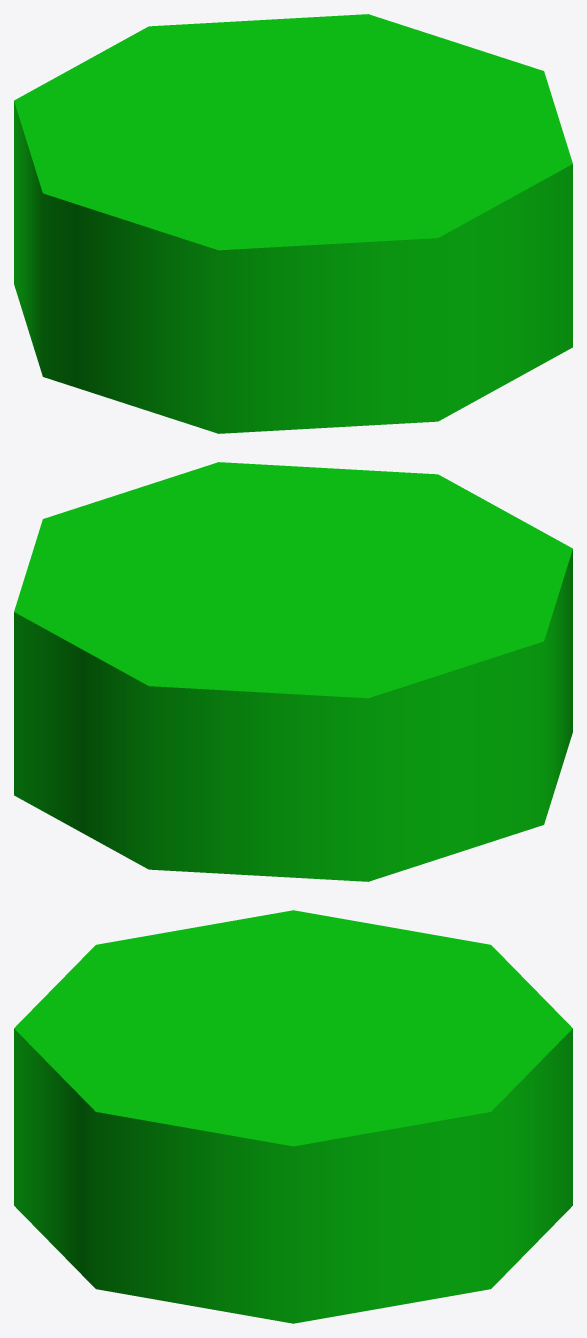
The model's file is prop_tyre_1x1_collider.FBX.
The picture shows the model from 3 angles, top to bottom: view 1: azimuth 30°, elevation 25°; view 2: azimuth 150°, elevation 25°; view 3: azimuth 270°, elevation 25°; orthographic projection. The views are drawn at different scales.
Visible parts, largest first — view 1: prop_tyre_collider; view 2: prop_tyre_collider; view 3: prop_tyre_collider.
Boxes of the visible parts, x1,y1,x2,y2 form: prop_tyre_collider: (14, 14, 572, 433); prop_tyre_collider: (14, 462, 572, 881); prop_tyre_collider: (14, 910, 572, 1323).
Bounding box in the file's own units: 32.52 × 11.38 × 32.52.
